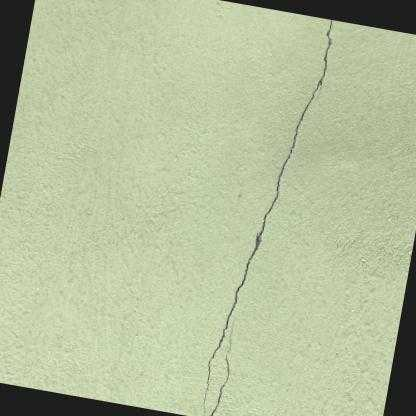crack: (202, 18, 332, 416), (208, 313, 235, 416)
